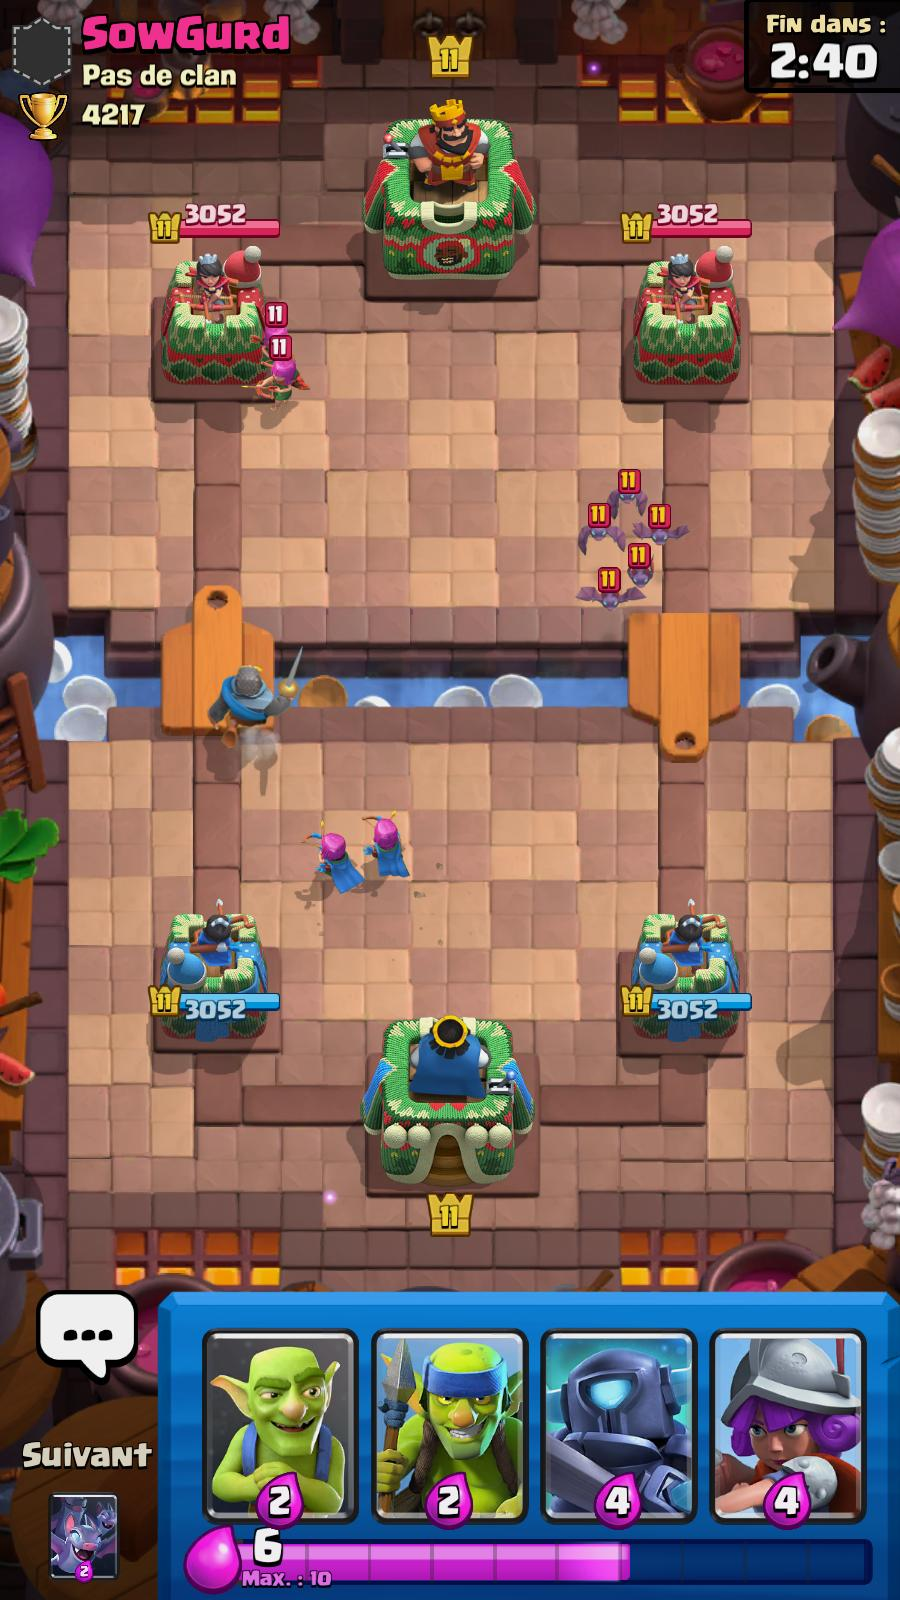archere: (354, 811, 414, 885), (304, 829, 364, 900), (246, 356, 308, 411), (253, 307, 297, 367)
bat: (575, 512, 627, 555), (632, 511, 691, 546), (604, 474, 651, 519), (578, 581, 642, 613), (623, 545, 658, 590)
chevalier: (205, 641, 307, 758)
